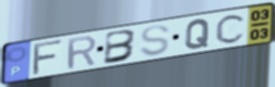B: (102, 28, 139, 66)
C: (214, 13, 249, 45)
F: (31, 37, 66, 77)
Q: (183, 18, 212, 51)
R: (66, 34, 99, 71)
S: (138, 24, 172, 57)
